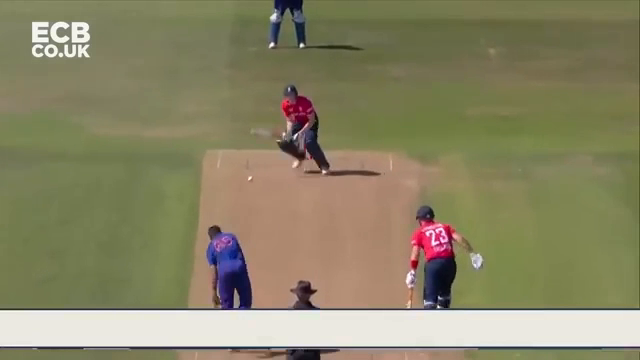Bowler: (201, 217, 261, 308)
batsman: (403, 205, 485, 308), (275, 86, 335, 176)
